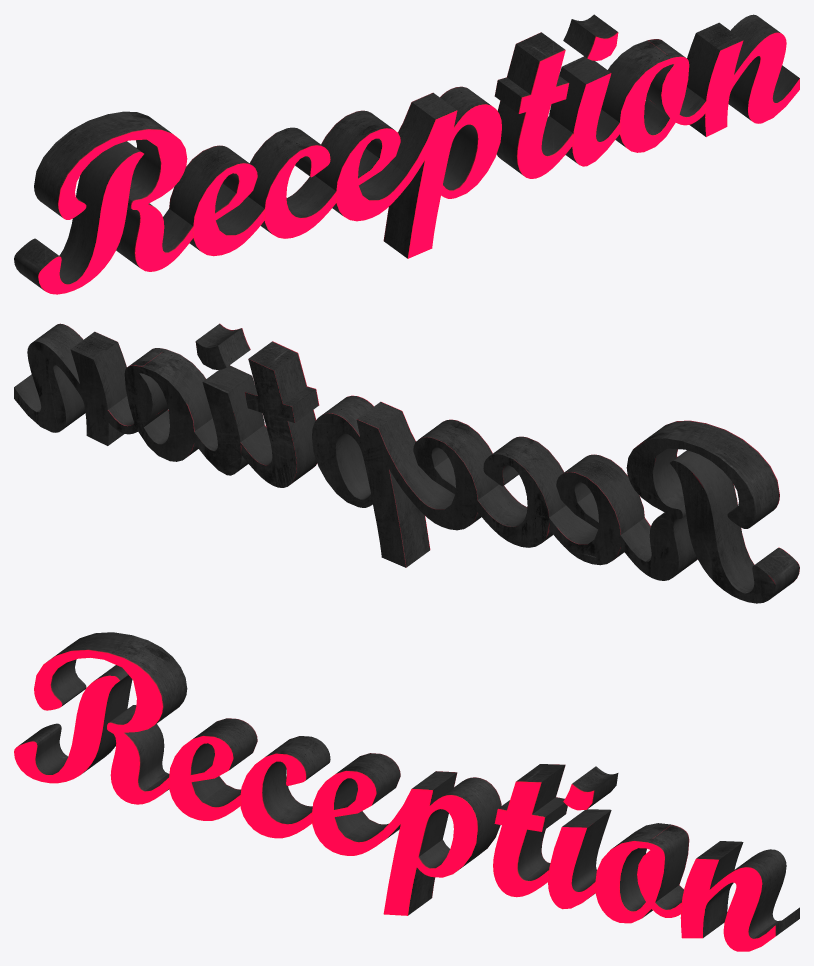
File: SM_ReceptionNeon1.fbx
3 renders of one model, top to bottom at view 1: azimuth 30°, elevation 25°; view 2: azimuth 150°, elevation 25°; view 3: azimuth 330°, elevation 25°, orthographic.
Parts seen in each view (by area): view 1: SM_ReceptionNeon1_LOD0; view 2: SM_ReceptionNeon1_LOD0; view 3: SM_ReceptionNeon1_LOD0.
Part boxes in pixels (box(x1,y1,x2,y2)): SM_ReceptionNeon1_LOD0: box(14, 14, 799, 294); SM_ReceptionNeon1_LOD0: box(14, 323, 799, 603); SM_ReceptionNeon1_LOD0: box(14, 632, 799, 951).
Size of the model in its own units: 230 by 12.74 by 56.1.
Materials: 1 (1 with a texture image).
